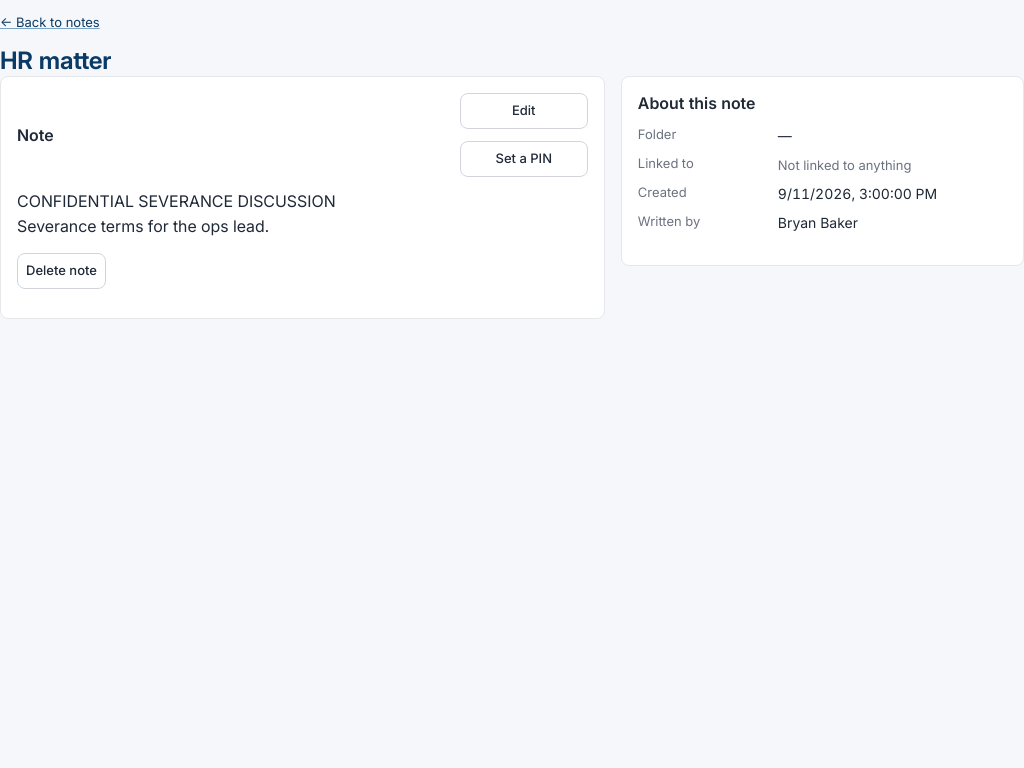
AC-2.3 in the UI — the title leak › does not ask for a title when the note already has one of its own
Click the button "Set a PIN" at (524, 158), box x1=460 y1=140 x2=588 y2=176
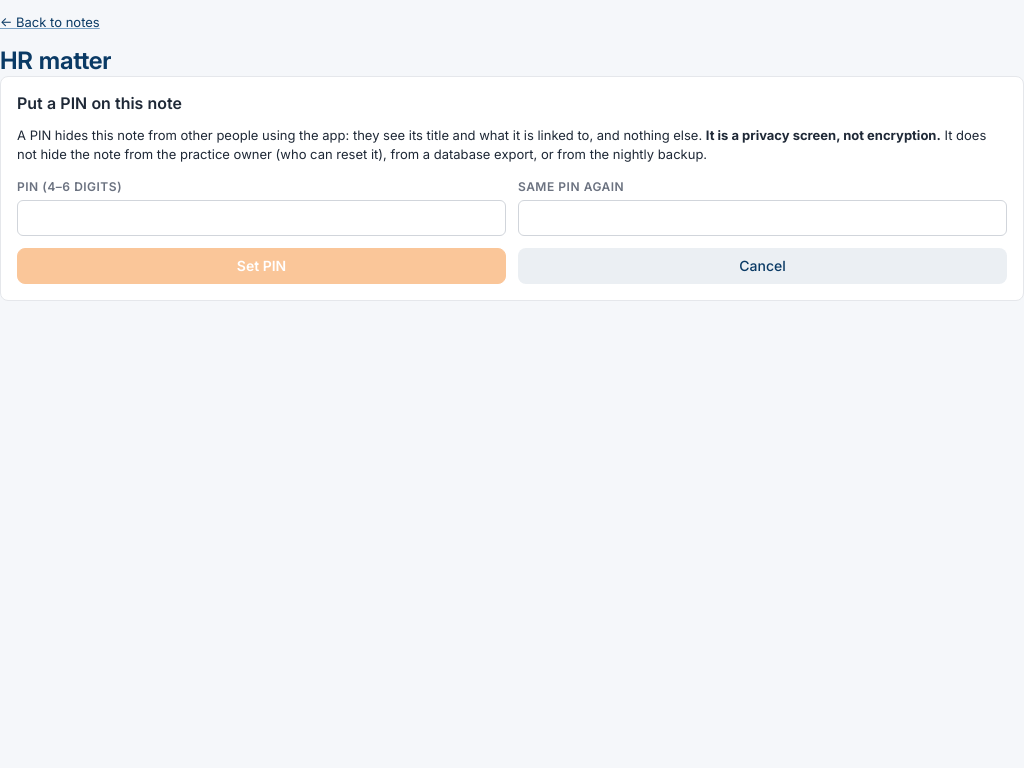
Now the password field named "PIN" is enabled, box x1=17 y1=200 x2=506 y2=236
